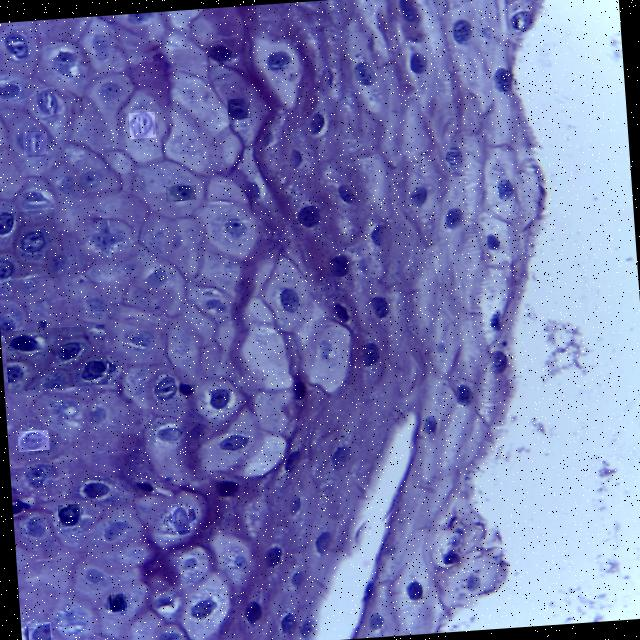Multiple Nucleol: (5, 329, 107, 384), (0, 212, 55, 279), (34, 85, 64, 116), (128, 110, 156, 138), (17, 428, 49, 451), (166, 504, 194, 530), (90, 225, 118, 251), (22, 130, 48, 154), (58, 502, 82, 526), (164, 183, 196, 200), (227, 96, 250, 118), (27, 620, 52, 640), (94, 358, 112, 377), (108, 592, 126, 610)
